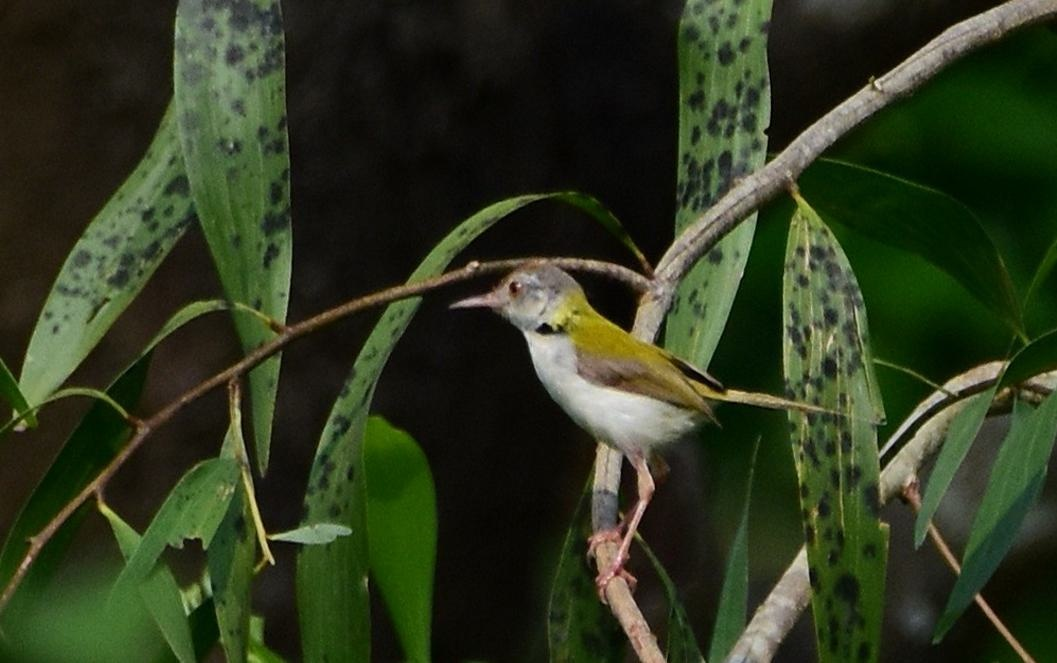tailorbird: (438, 238, 890, 537)
